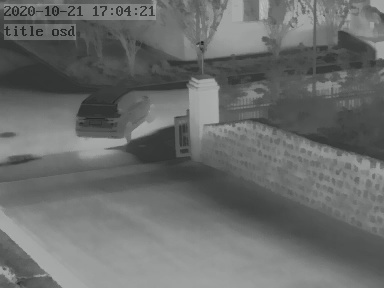vehicle: (72, 88, 156, 141)
